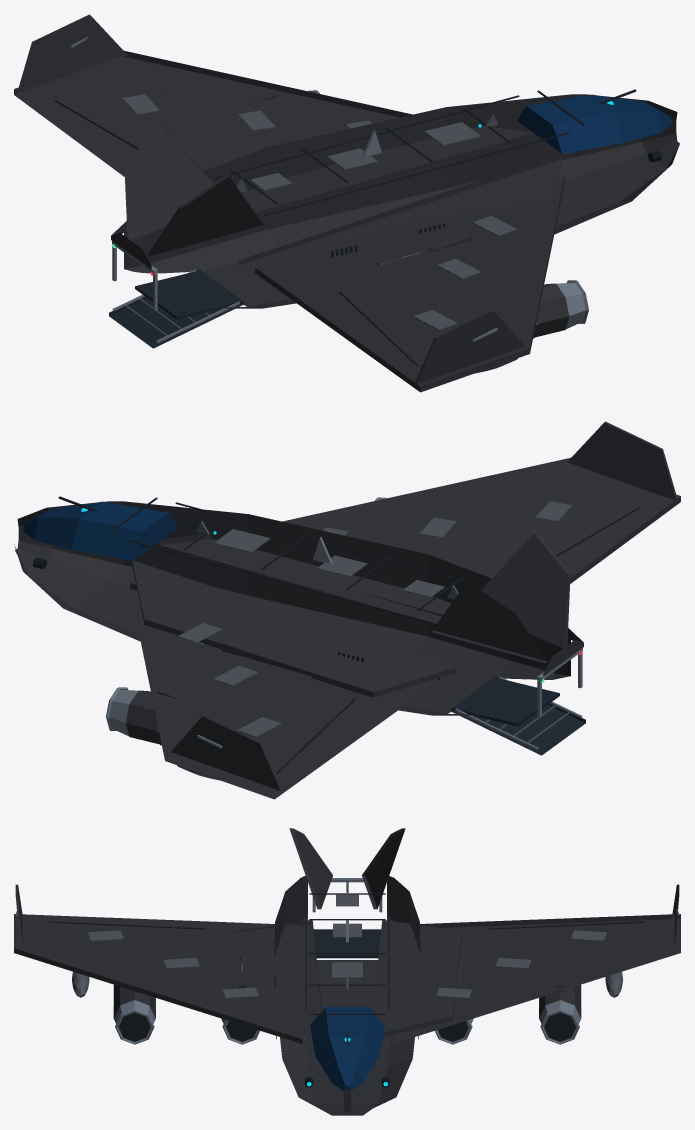
File: plane_cargo_elite.glb
3 renders of one model, top to bottom at view 1: azimuth 30°, elevation 25°; view 2: azimuth 150°, elevation 25°; view 3: azimuth 270°, elevation 25°, orthographic. The views are drawn at different scales.
Parts seen in each view (by area): view 1: Plane_Cargo_Elite; view 2: Plane_Cargo_Elite; view 3: Plane_Cargo_Elite.
Part boxes in pixels (x1,y1,x2,y2): Plane_Cargo_Elite: (14, 14, 679, 392); Plane_Cargo_Elite: (14, 421, 680, 799); Plane_Cargo_Elite: (14, 828, 680, 1115).
Bounding box in the file's own units: 35 × 10.18 × 45.
